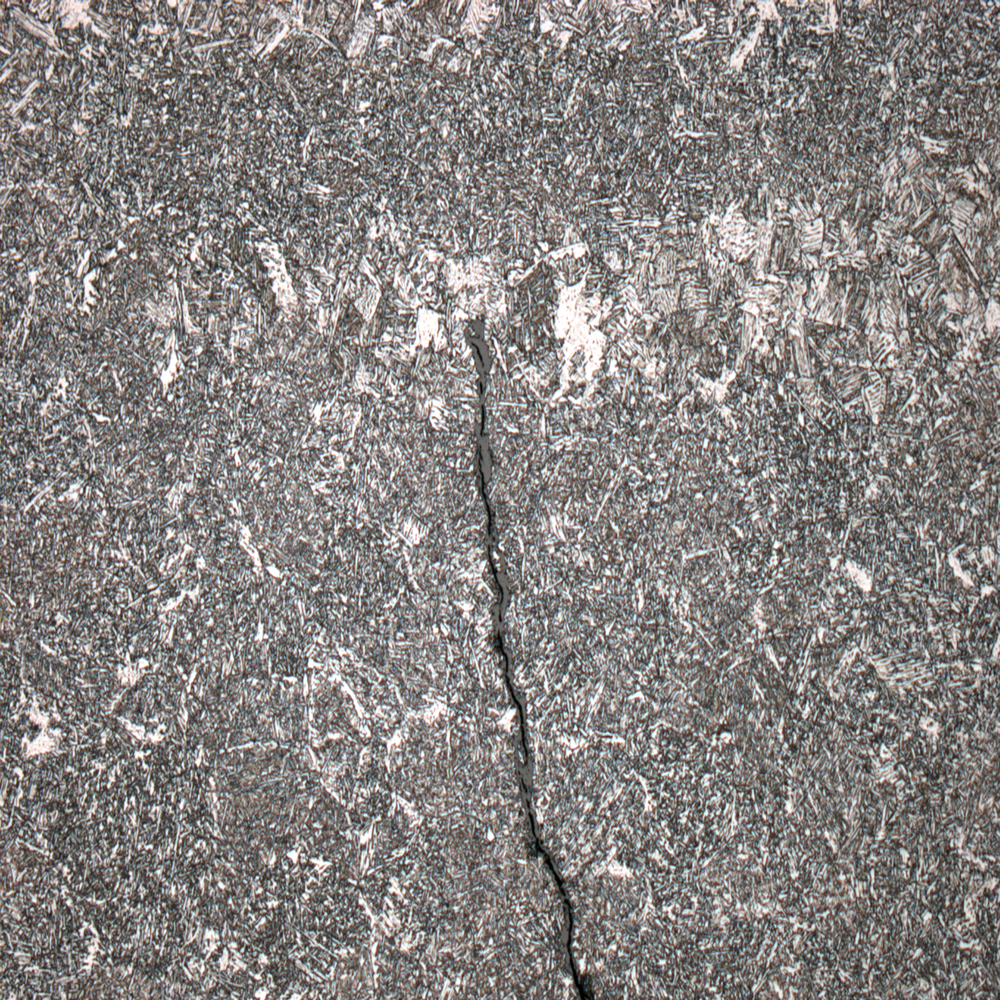crack: (427, 308, 631, 984)
